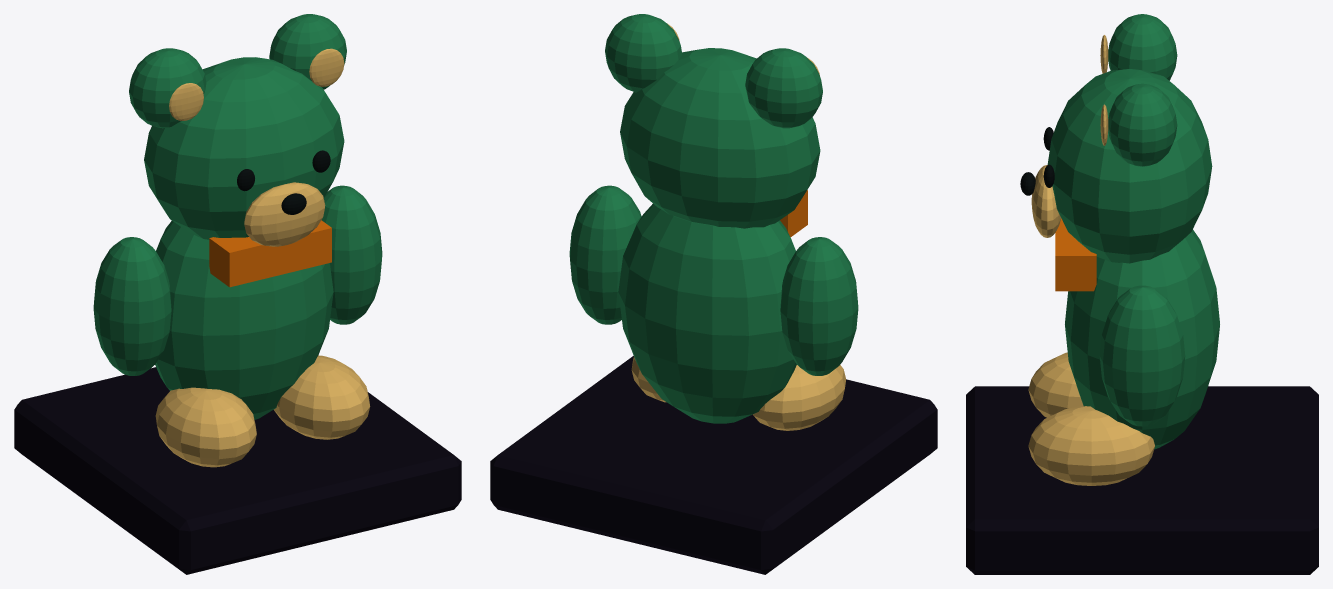
Rendered from mall_r5_gift_small.fbx.
3 views of the same model, side by side, from view 1: azimuth 30°, elevation 25°; view 2: azimuth 150°, elevation 25°; view 3: azimuth 270°, elevation 25° (orthographic).
Parts seen in each view (by area): view 1: Part_0, Part_-1; view 2: Part_0, Part_-1; view 3: Part_0, Part_-1.
Boxes of the visible parts, <box> form: Part_0: <box>93,14,382,459</box>; Part_-1: <box>14,367,461,574</box>; Part_0: <box>569,14,858,423</box>; Part_-1: <box>490,356,937,574</box>; Part_0: <box>1020,14,1219,475</box>; Part_-1: <box>966,386,1318,574</box>.
Bounding box in the file's own units: 1.51 × 2.28 × 1.6.
